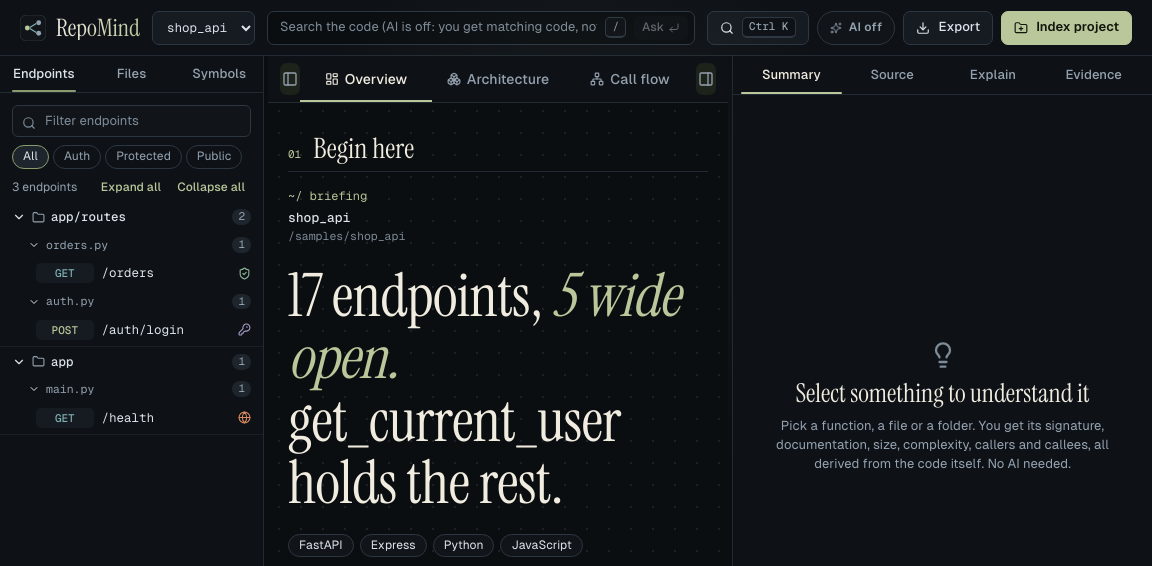
Test: Export for an LLM › shows what each level costs against pasting the source
expect the heading "shop_api" is shown: met, box left=288, top=209, right=350, bottom=226
Click the button "Export" at (948,28), box left=904, top=10, right=993, bottom=44
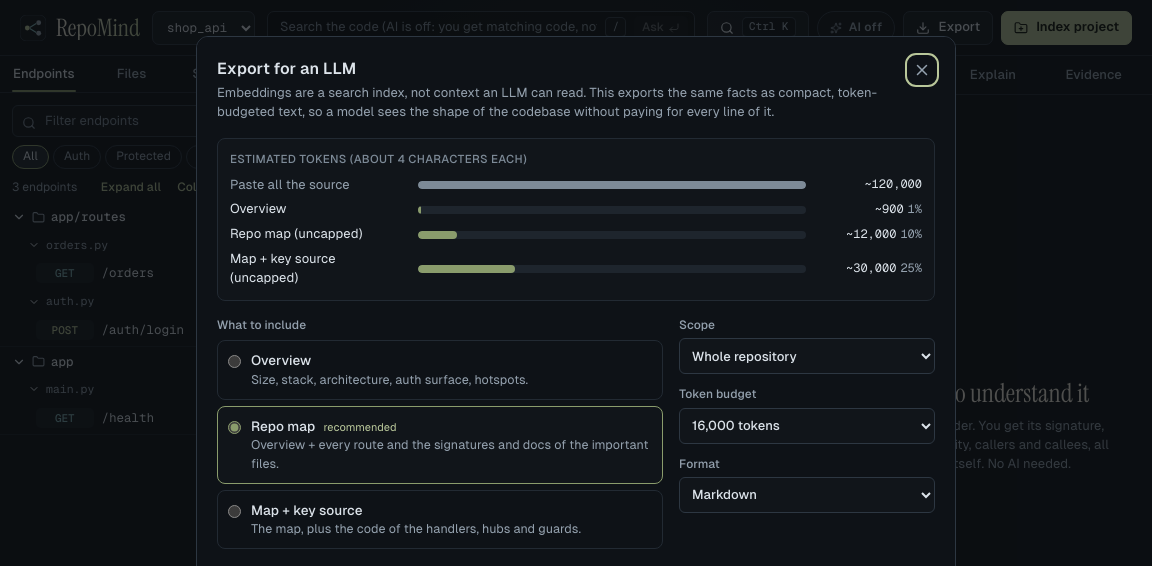
expect the text "~120,000" is shown: met, box left=864, top=176, right=922, bottom=192
expect the text "~9001%" is shown: met, box left=875, top=201, right=922, bottom=217
expect the text "~12,00010%" is shown: met, box left=846, top=226, right=922, bottom=242
